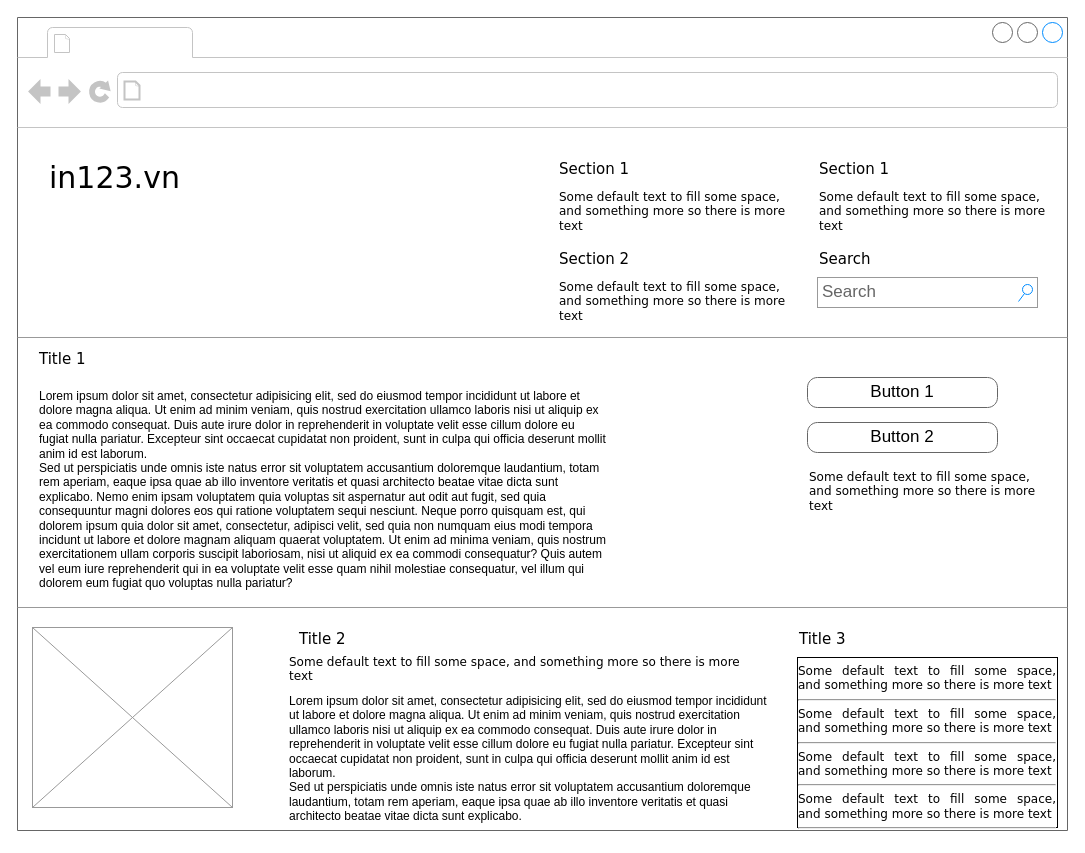
The diagram is 1085 pixels wide and 853 high, and some of its shapes have lost their labels. Here are the shapes that lost their labels. From the top down, the centre of each, then its label:
At pixel 132 42: "Page 1".
At pixel 272 90: "https://www.default.com".
